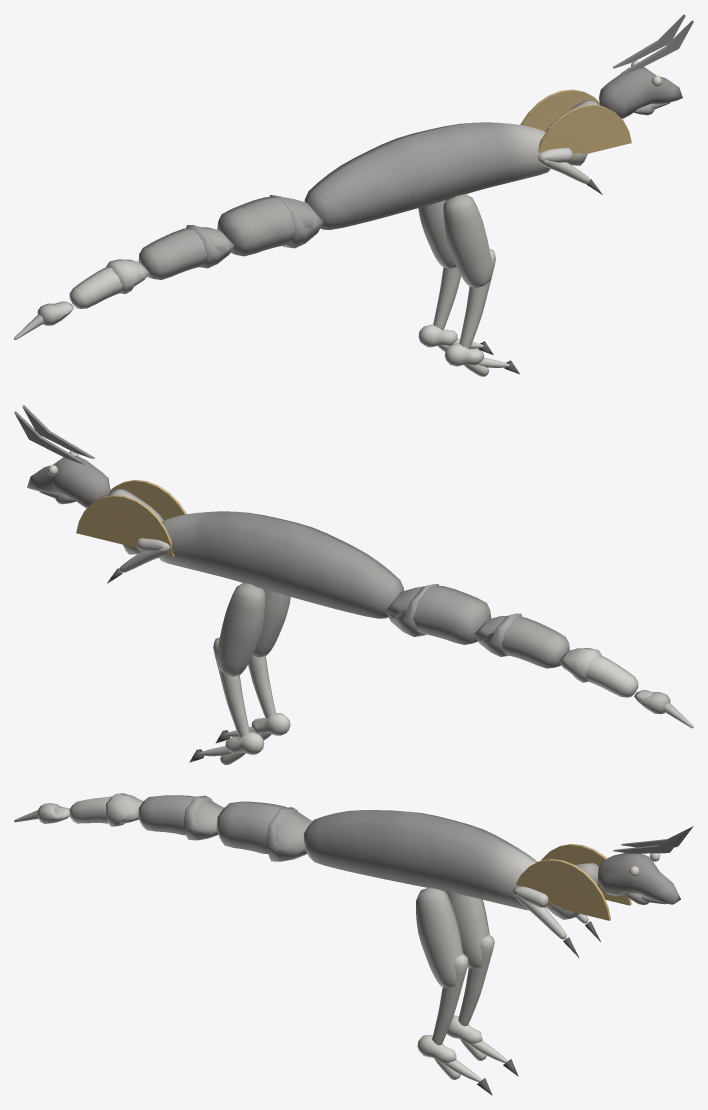
Rendered from dilopho.glb.
3 renders of one model, top to bottom at view 1: azimuth 30°, elevation 25°; view 2: azimuth 150°, elevation 25°; view 3: azimuth 330°, elevation 25°, orthographic.
Visible parts, largest first — view 1: bodym, tailm1, tailm2, frillmL, thighmR, headm, tailm3, frillmR, thighmL, shinmR, shinmL, armmR (+5 smaller); view 2: bodym, tailm1, tailm2, frillmR, thighmL, headm, tailm3, thighmR, frillmL, shinmL, shinmR, tailm4 (+5 smaller); view 3: bodym, tailm1, thighmR, frillmL, tailm2, headm, thighmL, tailm3, shinmR, shinmL, frillmR, armmR (+7 smaller).
Boxes of the visible parts, bbox=[...] form: bodym: bbox=[304, 122, 550, 229]; tailm1: bbox=[217, 195, 323, 256]; tailm2: bbox=[138, 225, 234, 279]; frillmL: bbox=[538, 104, 631, 165]; thighmR: bbox=[443, 194, 492, 287]; headm: bbox=[599, 67, 682, 118]; tailm3: bbox=[69, 259, 149, 308]; frillmR: bbox=[520, 89, 600, 131]; thighmL: bbox=[418, 200, 456, 268]; shinmR: bbox=[459, 248, 495, 349]; shinmL: bbox=[433, 267, 460, 330]; armmR: bbox=[538, 148, 590, 183]; bodym: bbox=[159, 511, 403, 618]; tailm1: bbox=[385, 583, 491, 644]; tailm2: bbox=[474, 613, 569, 668]; frillmR: bbox=[76, 495, 174, 556]; thighmL: bbox=[217, 582, 265, 676]; headm: bbox=[27, 456, 110, 508]; tailm3: bbox=[558, 648, 638, 697]; thighmR: bbox=[252, 589, 290, 657]; frillmL: bbox=[109, 480, 186, 520]; shinmL: bbox=[213, 637, 249, 737]; shinmR: bbox=[248, 655, 275, 718]; tailm4: bbox=[634, 690, 693, 728]; bodym: bbox=[303, 810, 545, 910]; tailm1: bbox=[216, 801, 312, 861]; thighmR: bbox=[416, 887, 463, 987]; frillmL: bbox=[516, 859, 610, 920]; tailm2: bbox=[138, 795, 223, 840]; headm: bbox=[597, 853, 680, 904]; thighmL: bbox=[445, 891, 489, 968]; tailm3: bbox=[69, 793, 143, 826]; shinmR: bbox=[432, 953, 468, 1045]; shinmL: bbox=[458, 934, 494, 1026]; frillmR: bbox=[541, 844, 631, 905]; armmR: bbox=[513, 886, 566, 939].
Size of the model in its own units: 7.16 by 3.05 by 0.8213.
